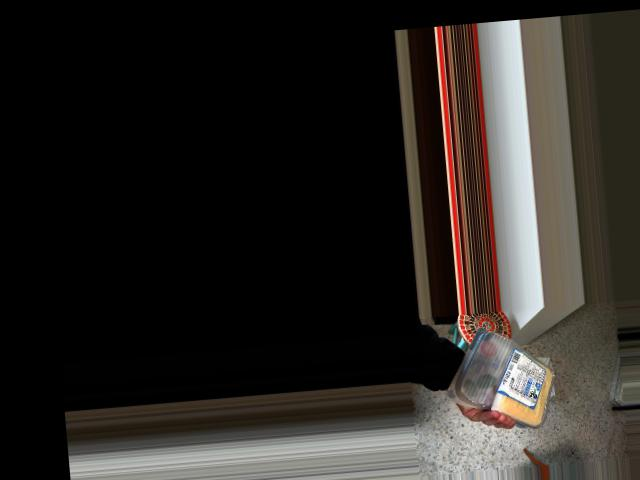cheese: (453, 319, 567, 422)
